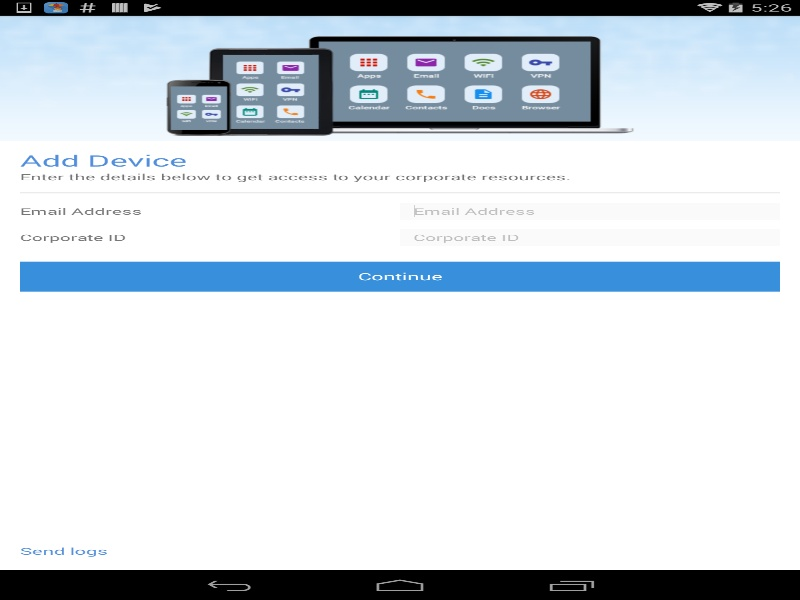Button: (20, 261, 780, 291)
Input: (400, 202, 780, 219), (400, 229, 780, 245)
